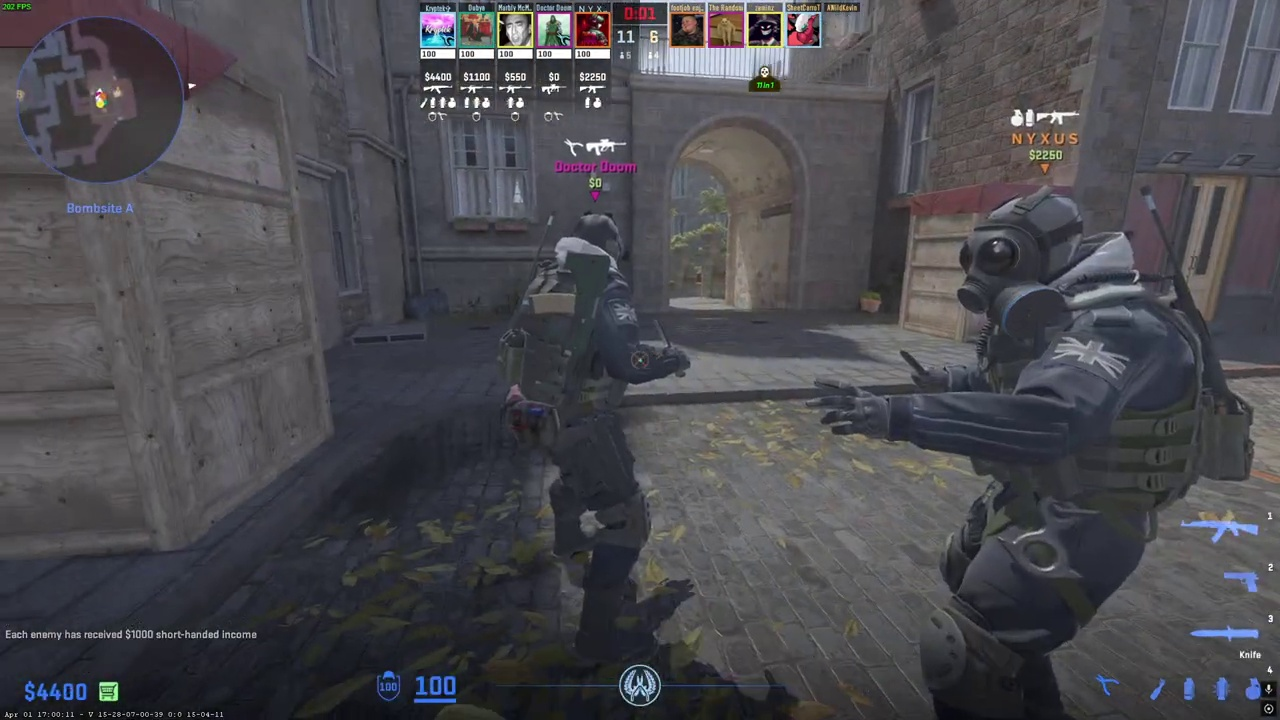CT: (913, 187, 1206, 720), (491, 209, 667, 657)
